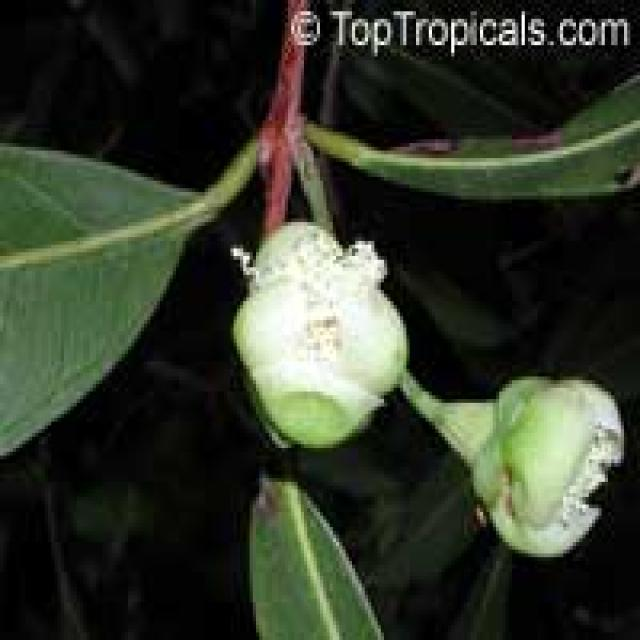Medicinal-Rose Apple: (0, 68, 640, 640)
